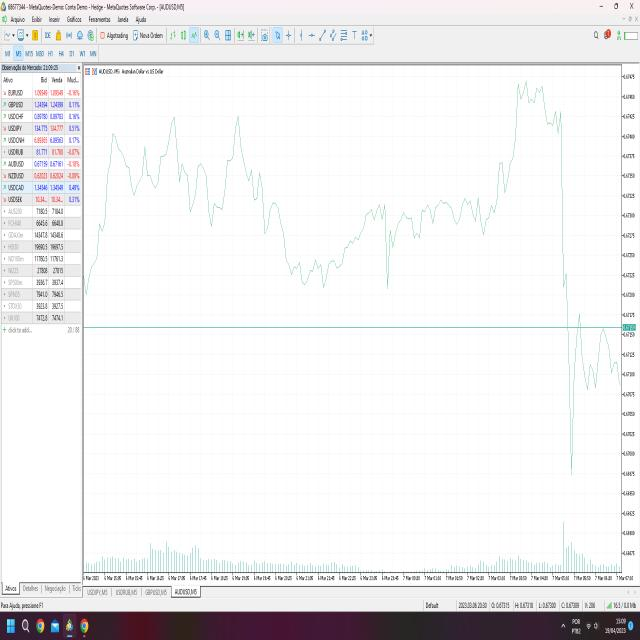bandeira_baixa: (552, 102, 606, 488)
